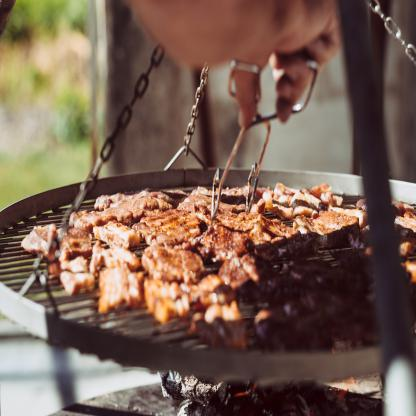Carne: (73, 188, 166, 238), (136, 200, 195, 266), (214, 201, 296, 246), (195, 221, 252, 282), (298, 198, 363, 244), (102, 262, 144, 309)
